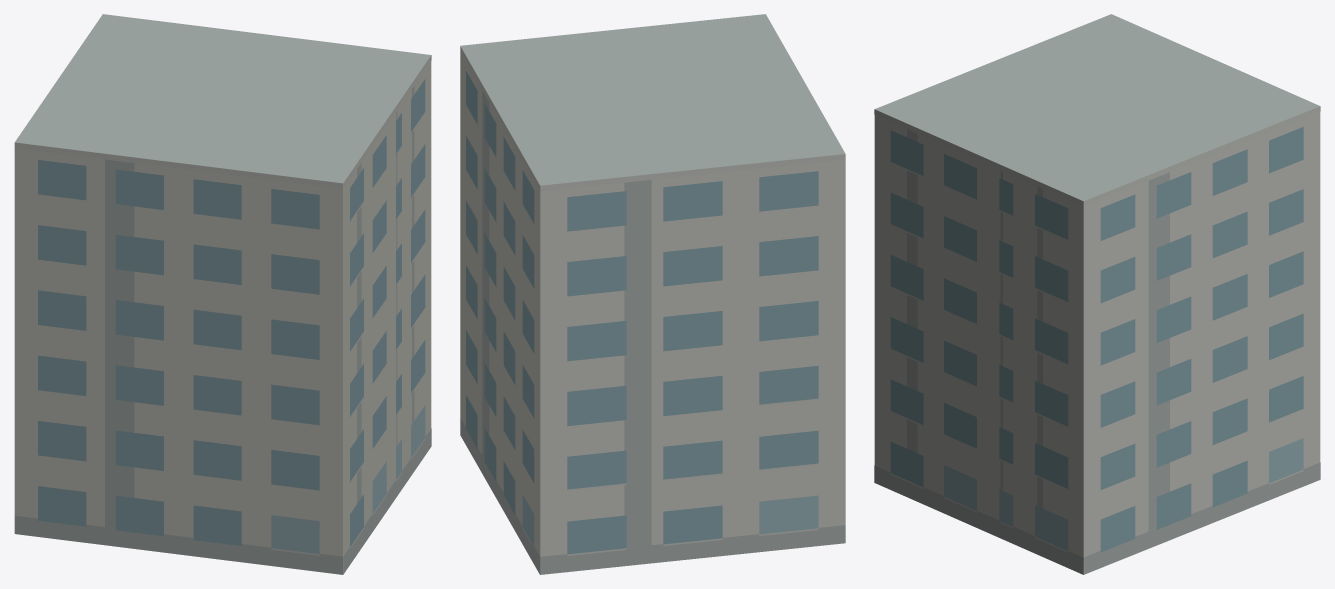
The model's file is survey-upis-32880290.glb.
3 views of the same model, side by side, from view 1: azimuth 30°, elevation 25°; view 2: azimuth 150°, elevation 25°; view 3: azimuth 270°, elevation 25° (orthographic). The views are drawn at different scales.
Visible parts, largest first — view 1: survey-upis-32880290.tmp; view 2: survey-upis-32880290.tmp; view 3: survey-upis-32880290.tmp.
Boxes of the visible parts, x1=… form: survey-upis-32880290.tmp: x1=14, y1=14, x2=431, y2=574; survey-upis-32880290.tmp: x1=460, y1=14, x2=845, y2=574; survey-upis-32880290.tmp: x1=874, y1=14, x2=1320, y2=574.
Bounding box in the file's own units: 17.85 × 16.6 × 17.96.
